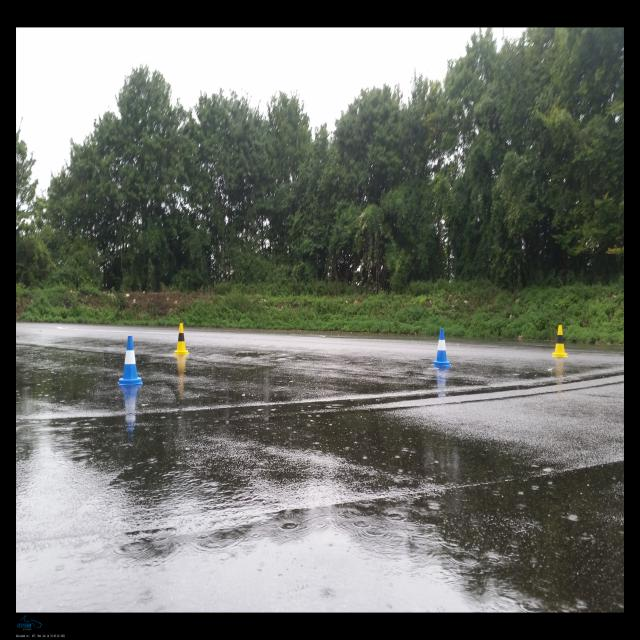blue_cone: (118, 336, 142, 386), (432, 328, 452, 366)
yellow_cone: (552, 325, 568, 357), (174, 323, 189, 355)
